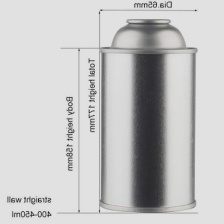aerosol_cans: (95, 13, 200, 216)
